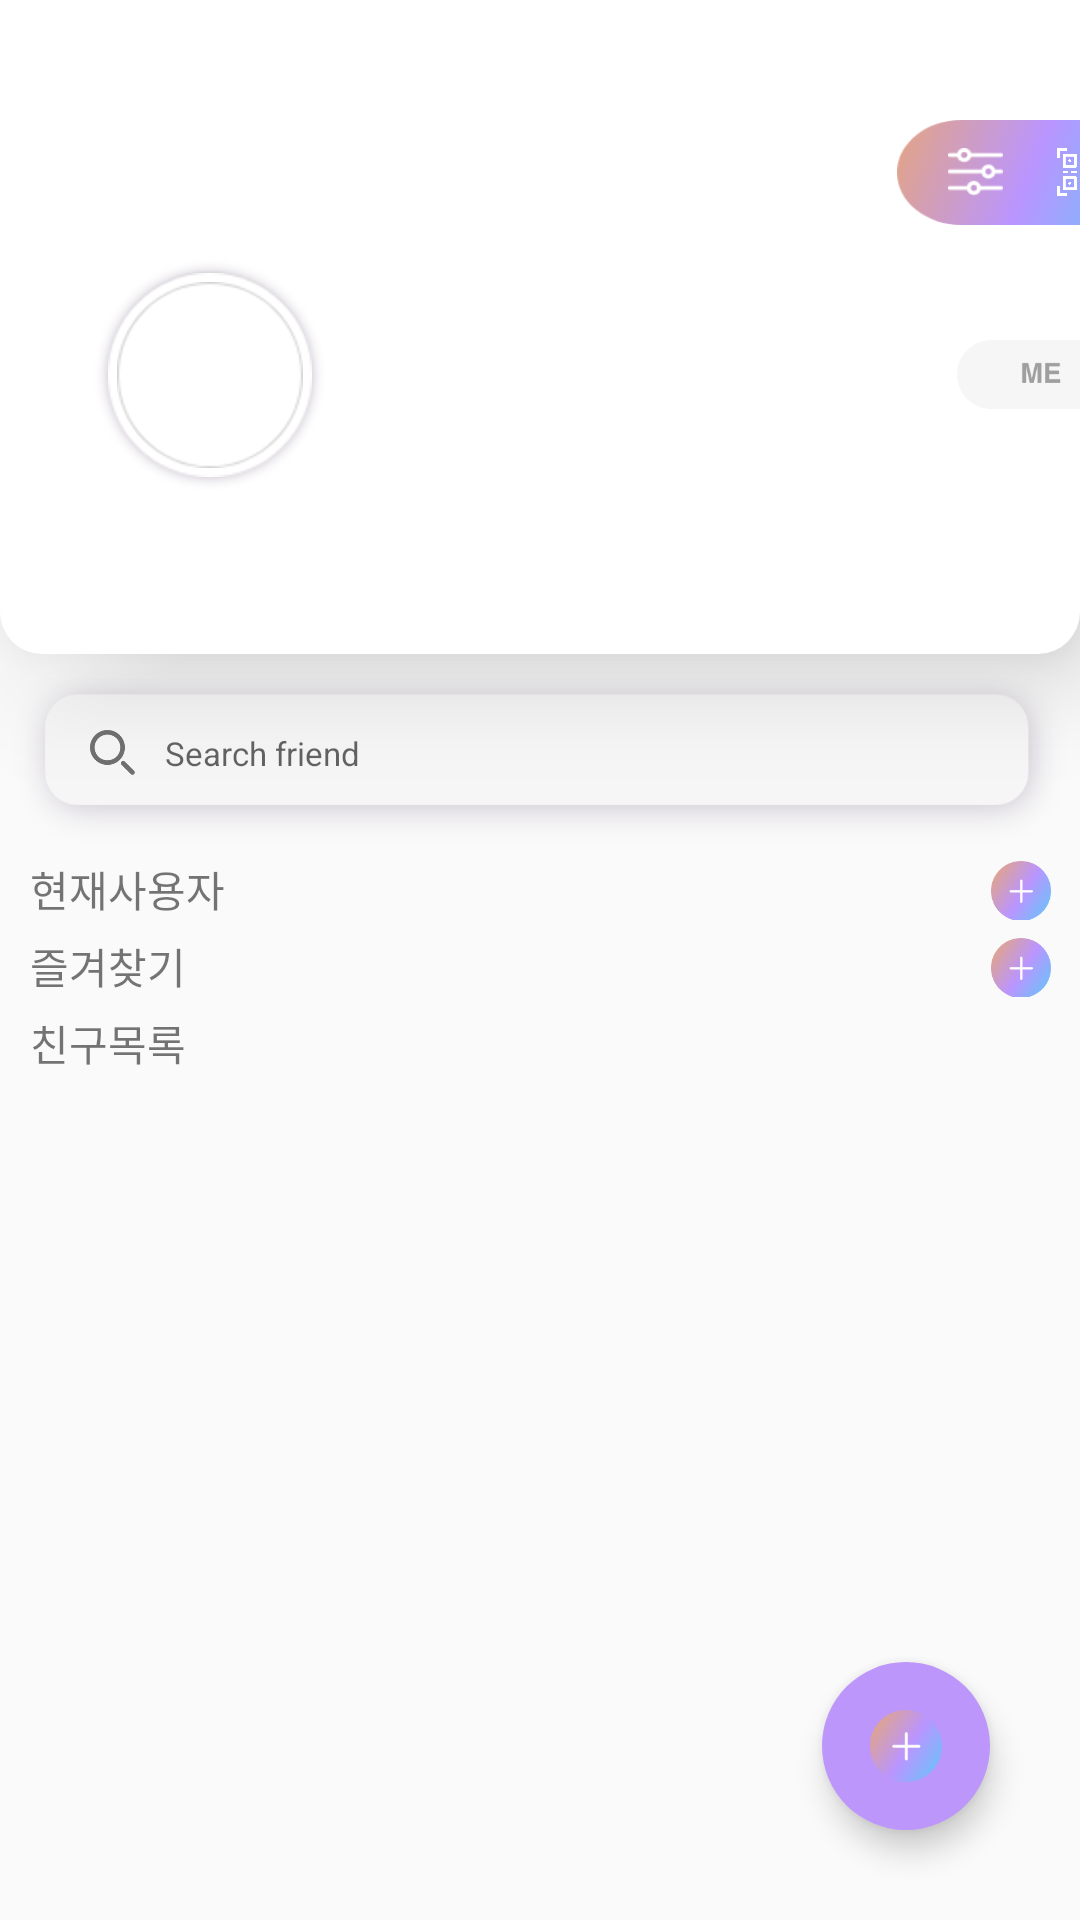

Named icons in this screenshot (1080 × 1920) and their bounding boxes, (x1, y1, x2, y2):
yj search: (90, 730, 135, 775)
